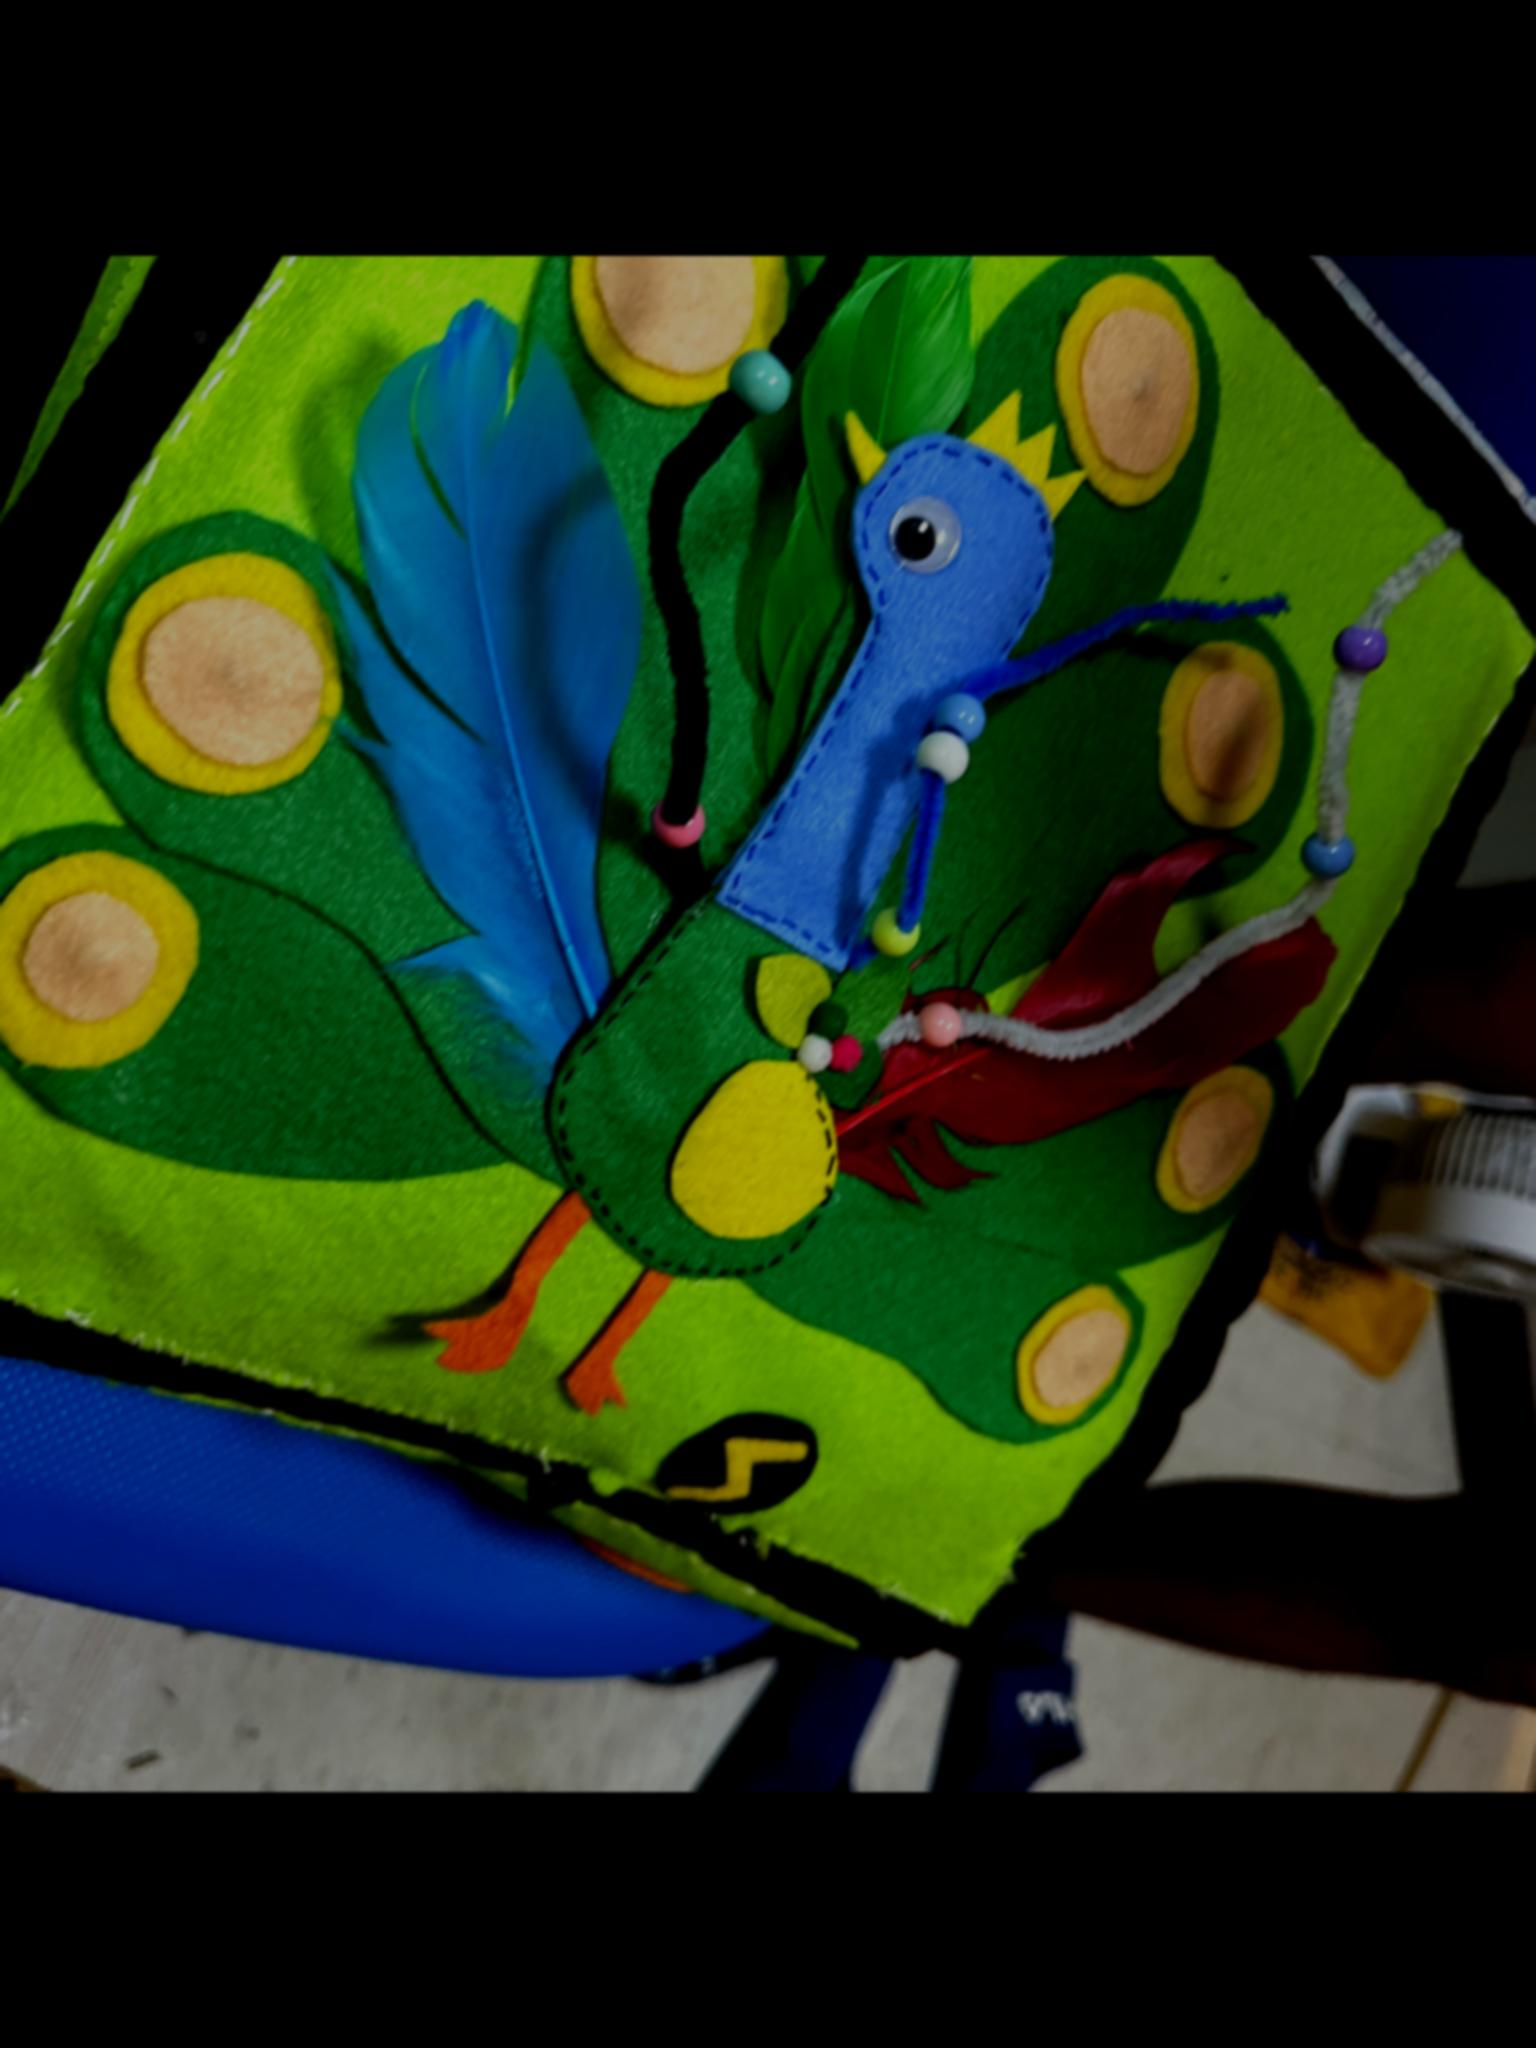bead: (724, 339, 805, 416), (1323, 613, 1397, 685), (907, 998, 970, 1071), (863, 898, 937, 956), (642, 795, 716, 851), (1296, 832, 1367, 887), (904, 739, 971, 787), (931, 692, 983, 737)
